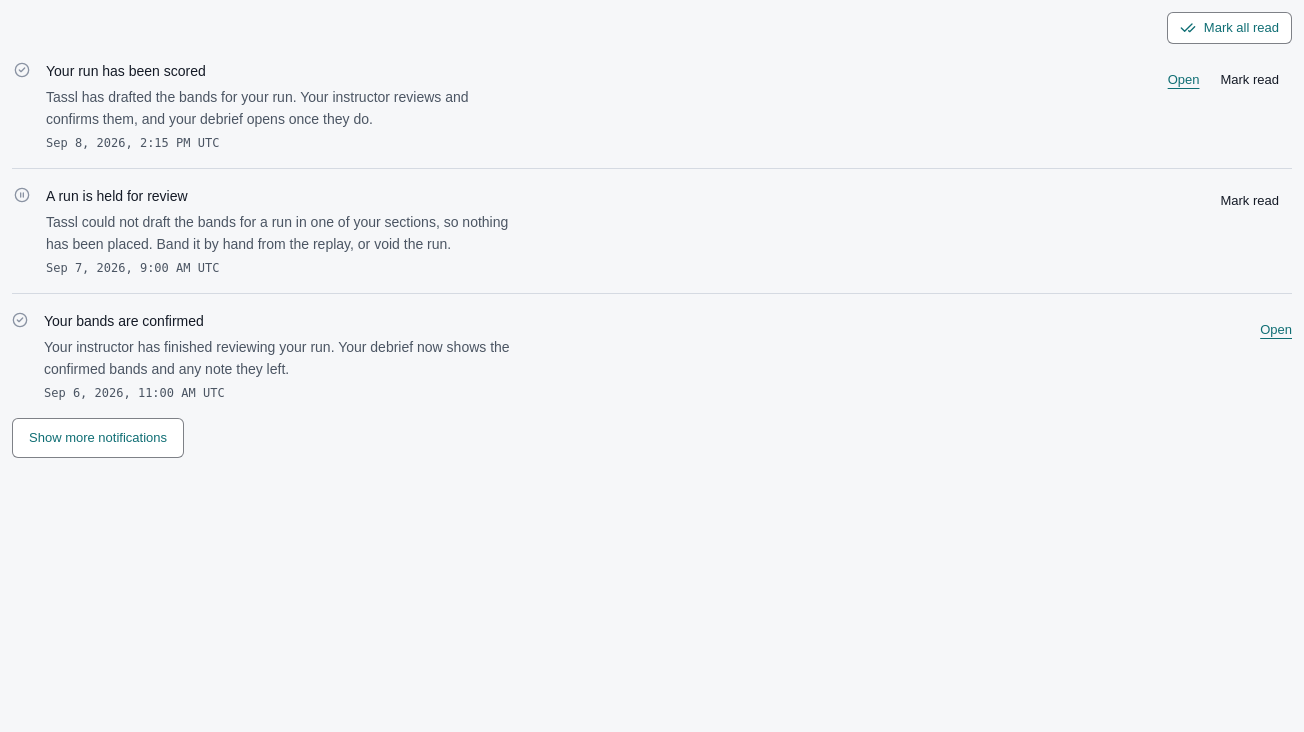
Test: NotificationList (UI-011) › appends the next page and drops the control once the last page has arrived
What coordinates should you click on to do the following:
click the button "Show more notifications"
I would click on:
 (98, 438)
Its box is x1=12 y1=418 x2=184 y2=458.
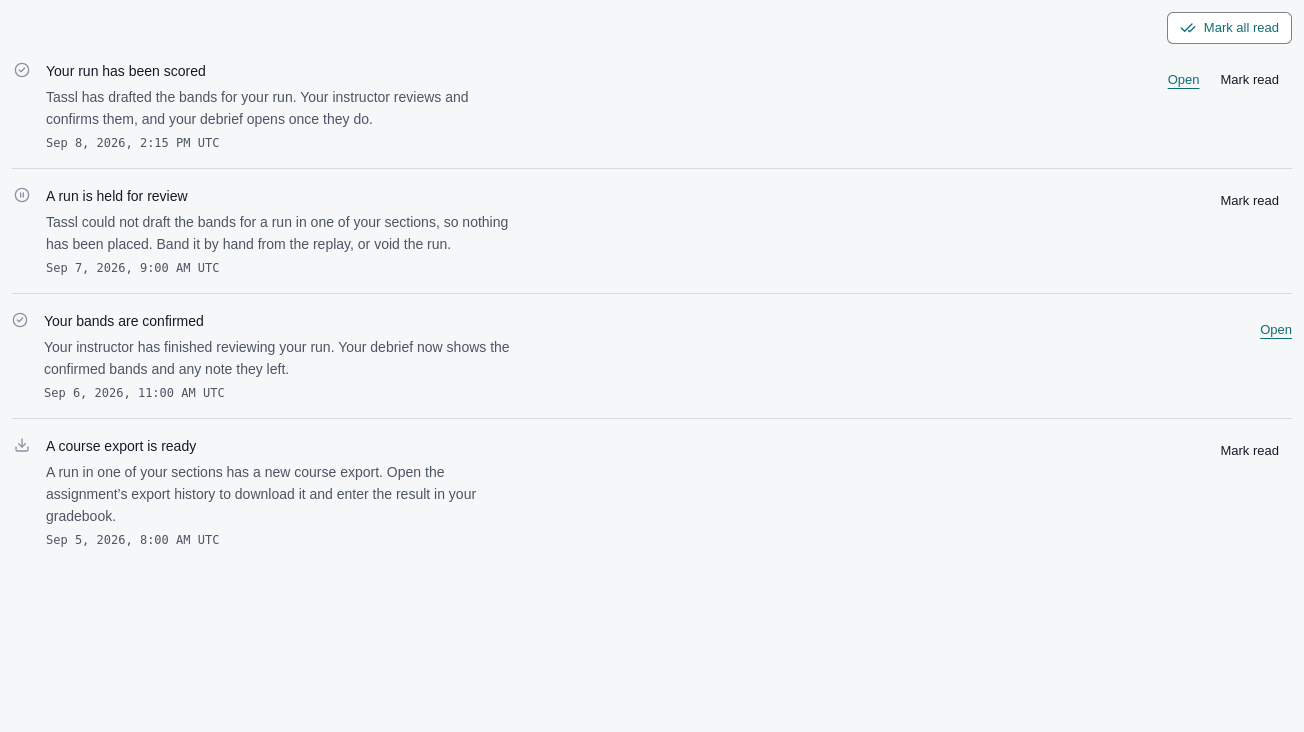
Expected: the text "A course export is ready" is shown, x1=45 y1=437 x2=241 y2=454
Expected: the button "Show more notifications" is gone
